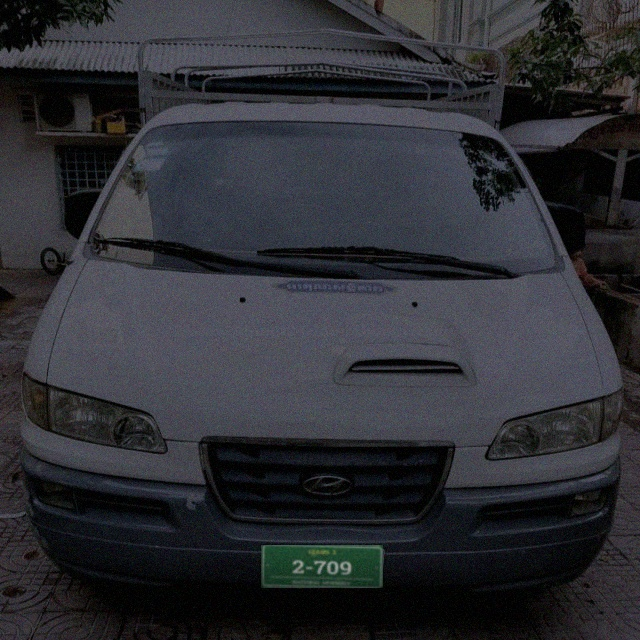Plate Number: (261, 545, 384, 589)
